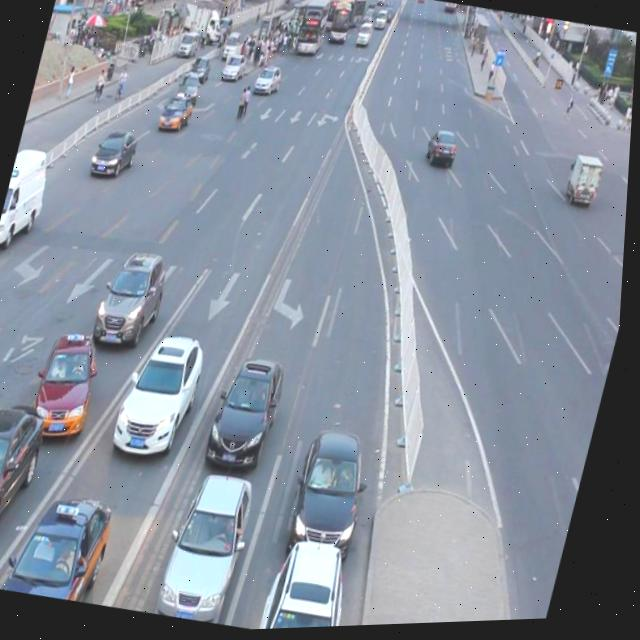bus: (566, 155, 607, 211)
car: (158, 463, 265, 629), (0, 478, 127, 608), (113, 324, 216, 465), (287, 423, 384, 567), (206, 350, 296, 476), (265, 531, 375, 631), (30, 326, 112, 446), (93, 241, 178, 354), (0, 388, 56, 557), (90, 125, 144, 183), (158, 92, 197, 135)
truck: (0, 144, 60, 253)
